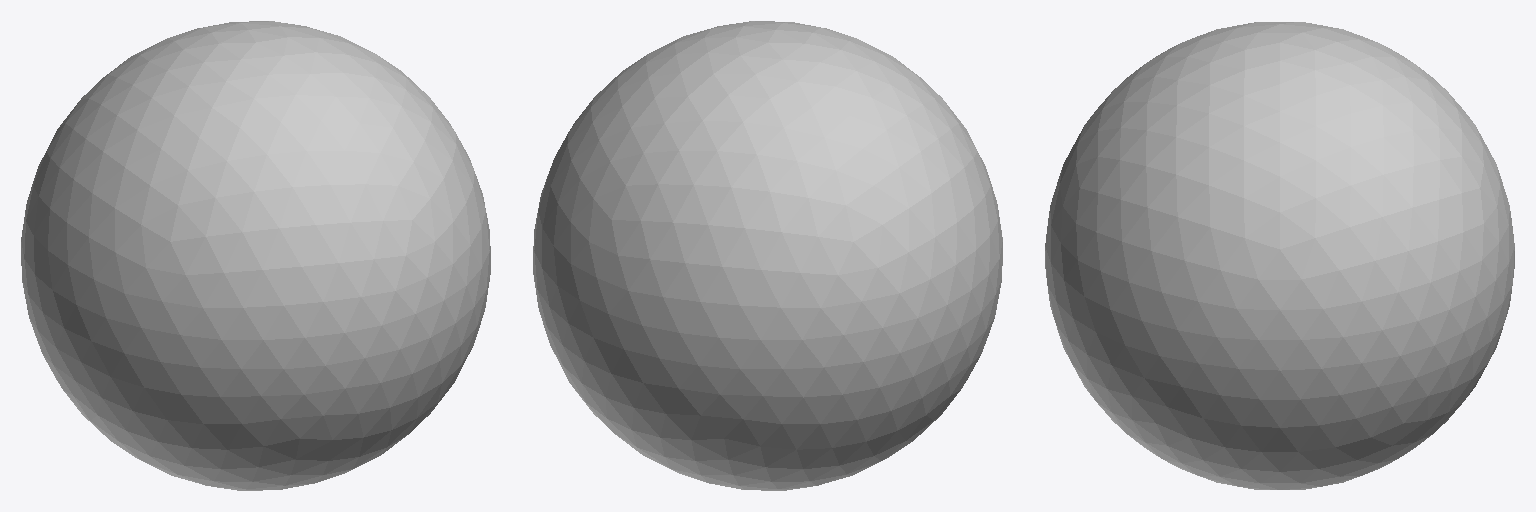
3 views of the same model, side by side, from view 1: azimuth 30°, elevation 25°; view 2: azimuth 150°, elevation 25°; view 3: azimuth 270°, elevation 25° (orthographic).
Parts seen in each view (by area): view 1: GeoSphere001; view 2: GeoSphere001; view 3: GeoSphere001.
Boxes of the visible parts, <box> form: GeoSphere001: <box>21,21,490,490</box>; GeoSphere001: <box>533,21,1002,490</box>; GeoSphere001: <box>1045,22,1514,489</box>.
Size of the model in its own units: 107723 by 108001 by 107663.